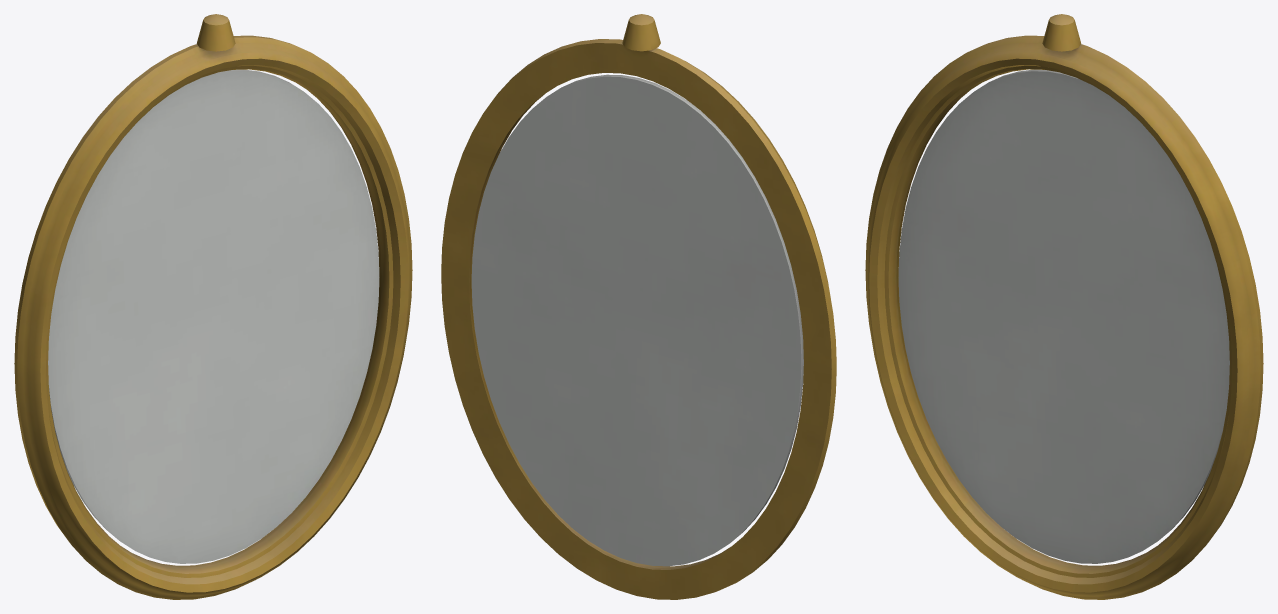
File: wall_mirror.glb
3 views of the same model, side by side, from view 1: azimuth 30°, elevation 25°; view 2: azimuth 150°, elevation 25°; view 3: azimuth 330°, elevation 25° (orthographic).
Parts seen in each view (by area): view 1: wall_mirror; view 2: wall_mirror; view 3: wall_mirror.
Part boxes in pixels (<box>): wall_mirror: <box>14,14,412,599</box>; wall_mirror: <box>441,14,836,599</box>; wall_mirror: <box>865,14,1263,599</box>.
Size of the model in its own units: 0.704 by 0.992 by 0.0599.
Materials: 1 (1 with a texture image).
